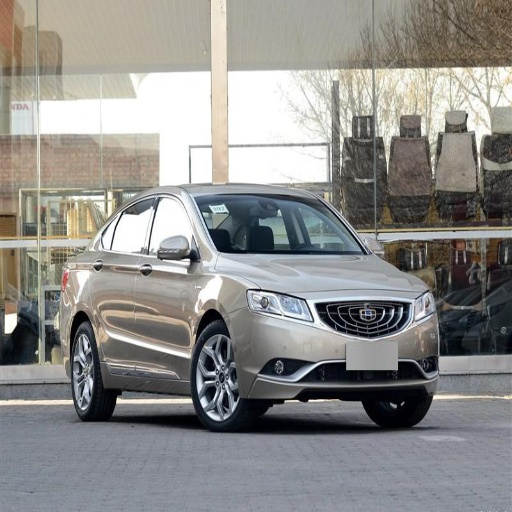back_right_door: (89, 195, 154, 380)
front_bumper: (233, 294, 436, 401)
front_right_door: (135, 194, 198, 385)
front_right_light: (248, 289, 314, 322)
